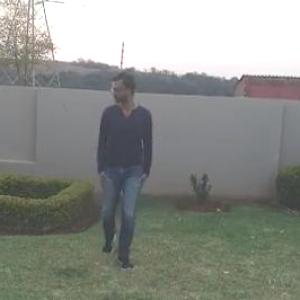follow: (83, 55, 150, 292)
